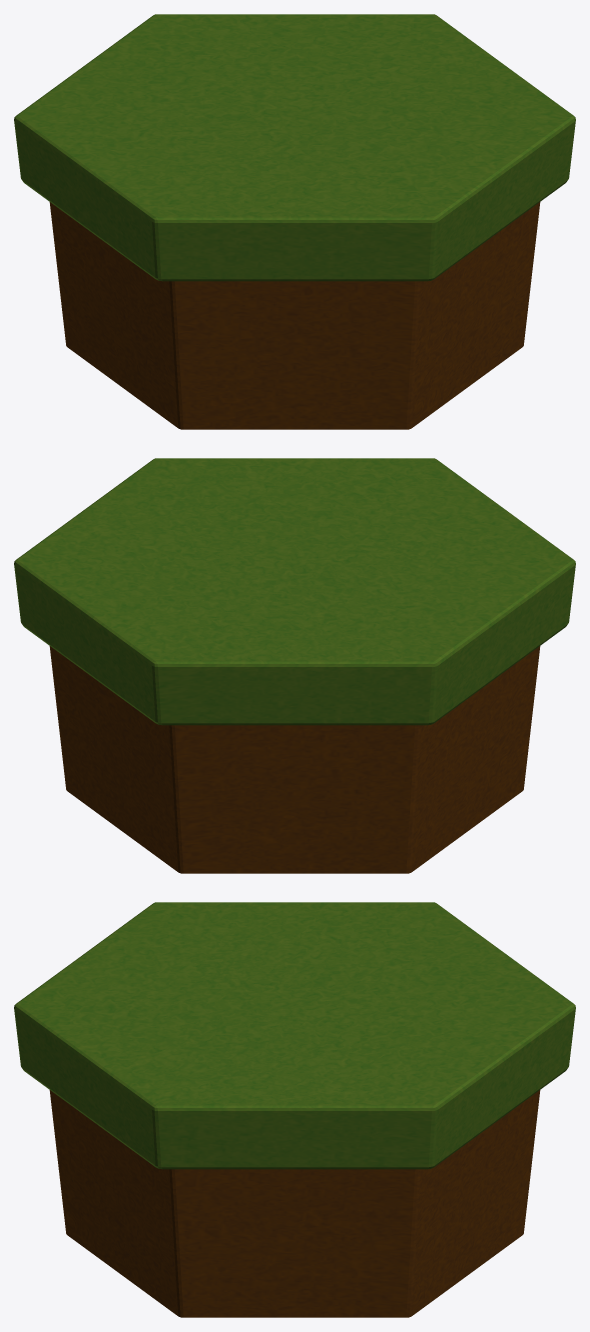
The model's file is caodi.fbx.
3 renders of one model, top to bottom at view 1: azimuth 30°, elevation 25°; view 2: azimuth 150°, elevation 25°; view 3: azimuth 270°, elevation 25°, orthographic.
Parts seen in each view (by area): view 1: 柱体.002; view 2: 柱体.002; view 3: 柱体.002.
Boxes of the visible parts, box(x1,y1,x2,y2) form: 柱体.002: box(14, 14, 575, 429); 柱体.002: box(14, 458, 575, 873); 柱体.002: box(14, 902, 575, 1317).
Size of the model in its own units: 171 by 88.9 by 197.
1 material, 1 textured.
